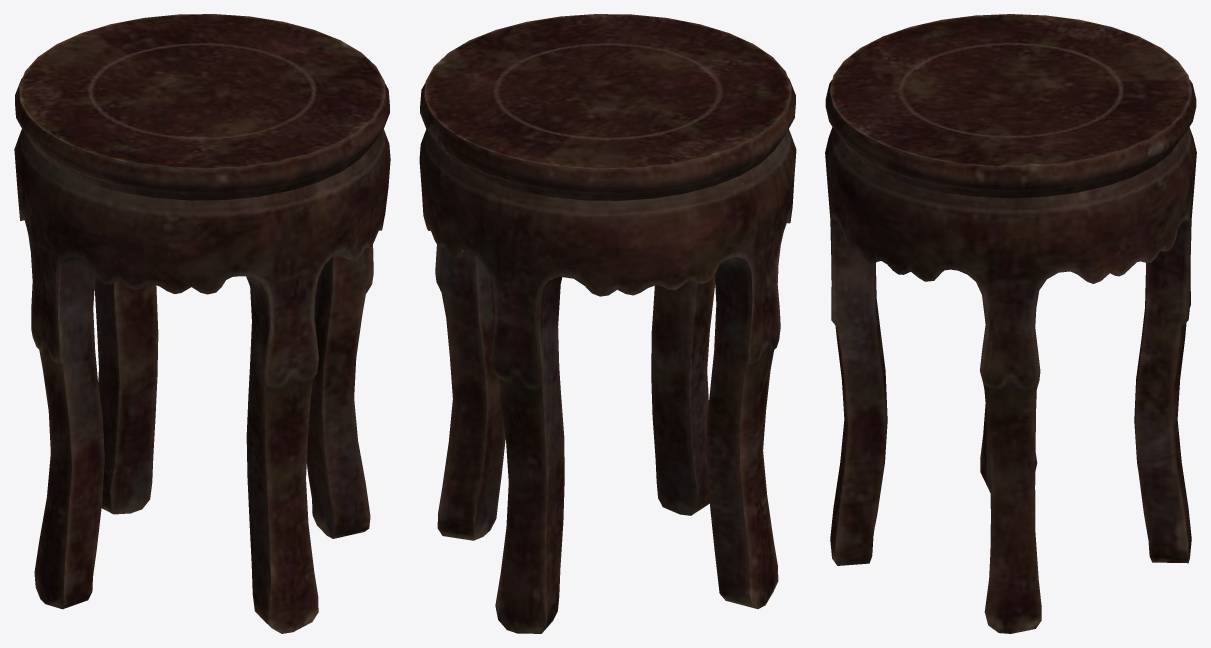
3 views of the same model, side by side, from view 1: azimuth 30°, elevation 25°; view 2: azimuth 150°, elevation 25°; view 3: azimuth 270°, elevation 25° (orthographic).
Parts seen in each view (by area): view 1: WoodenTable_02; view 2: WoodenTable_02; view 3: WoodenTable_02.
Part boxes in pixels (x1=…): WoodenTable_02: x1=14, y1=14, x2=390, y2=633; WoodenTable_02: x1=419, y1=14, x2=796, y2=633; WoodenTable_02: x1=825, y1=14, x2=1196, y2=633.
Size of the model in its own units: 0.3007 by 0.4177 by 0.3007.
Materials: 1 (1 with a texture image).
